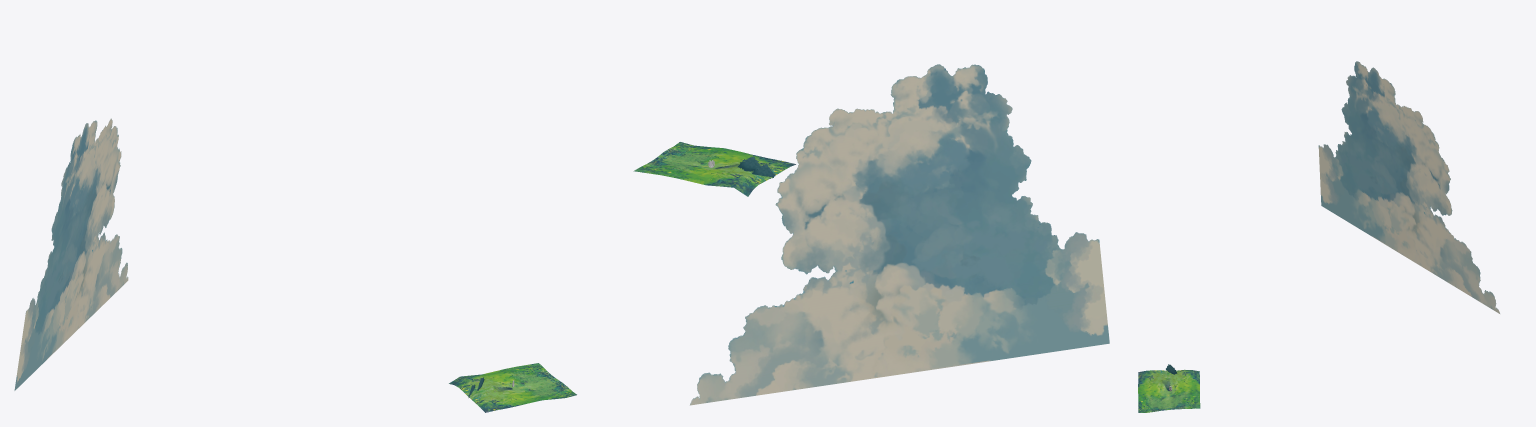
Rendered from 动漫草地和蓝天白云.glb.
3 renders of one model, left to right at view 1: azimuth 30°, elevation 25°; view 2: azimuth 150°, elevation 25°; view 3: azimuth 270°, elevation 25°, orthographic. The views are drawn at different scales.
Visible parts, largest first — view 1: cloud, grass_emitter; view 2: cloud, grass_emitter; view 3: cloud, grass_emitter.
Part boxes in pixels (left/top/right/bottom): cloud: left=14, top=118, right=128, bottom=390; grass_emitter: left=449, top=363, right=576, bottom=412; cloud: left=690, top=64, right=1109, bottom=405; grass_emitter: left=633, top=142, right=795, bottom=196; cloud: left=1318, top=61, right=1499, bottom=313; grass_emitter: left=1138, top=369, right=1200, bottom=412.
Size of the model in its own units: 106 by 63.13 by 94.85.
Materials: 5 (5 with a texture image).
